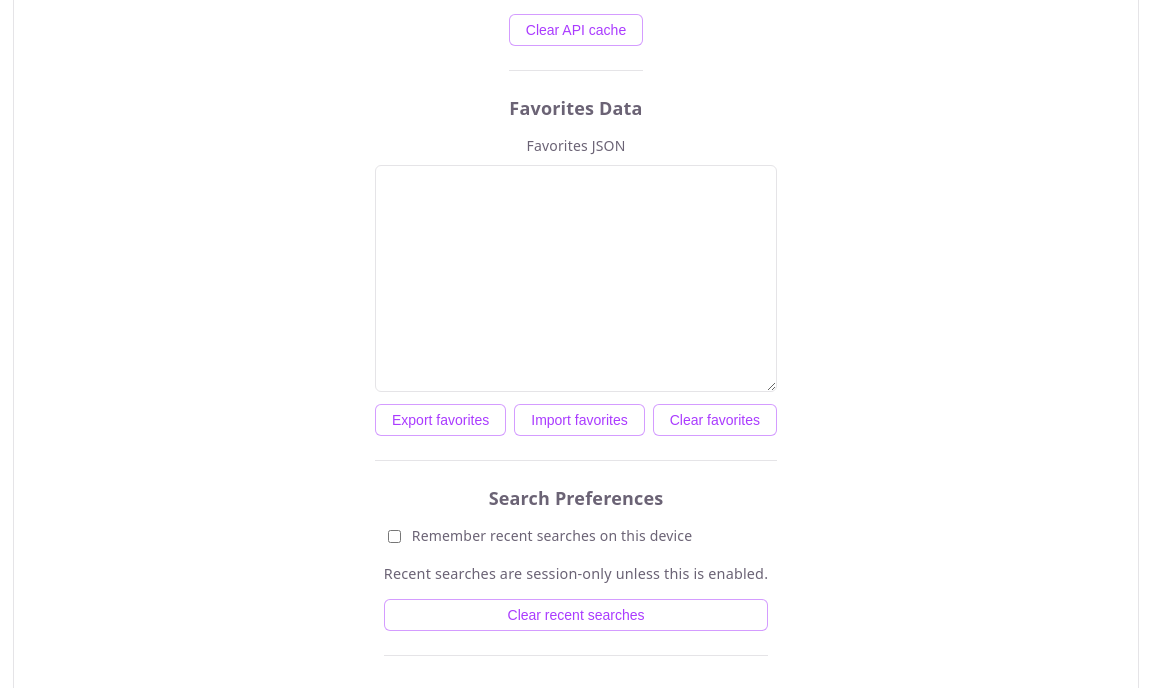
Test: settings page › clears recent searches from settings
(page scrolled)
Step 1. Click the button "Clear recent searches" → (576, 615), box [384,599,768,631]
(page scrolled)
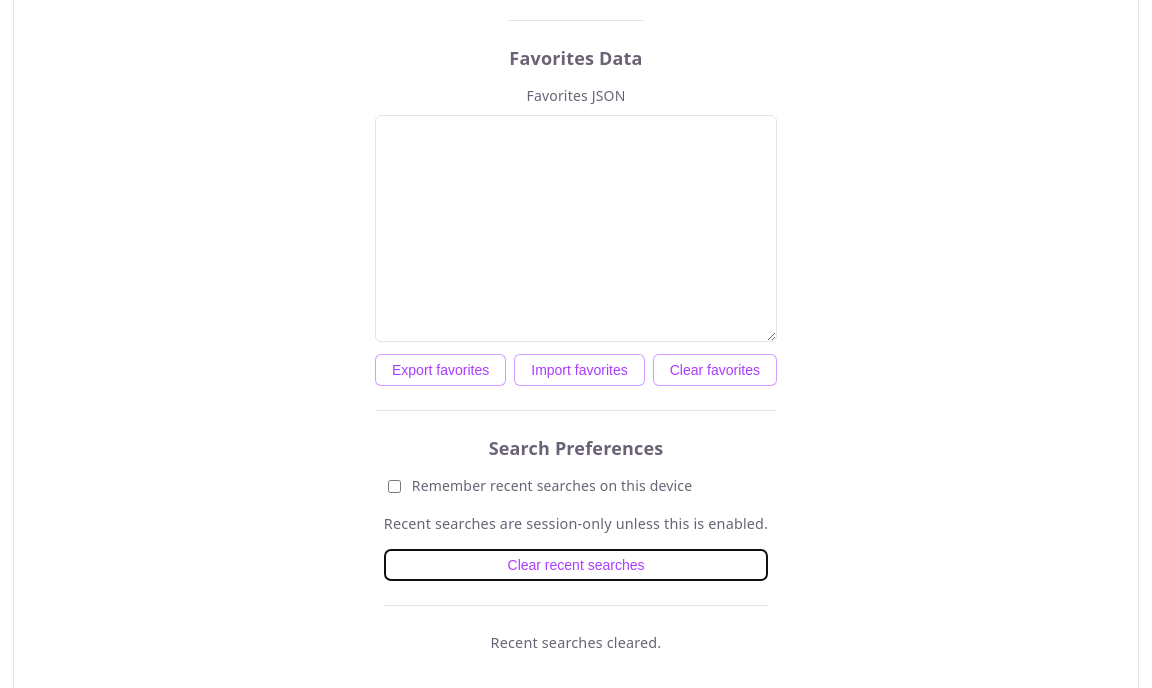
Expected: the text "Recent searches cleared." is shown, [491,630,661,656]
